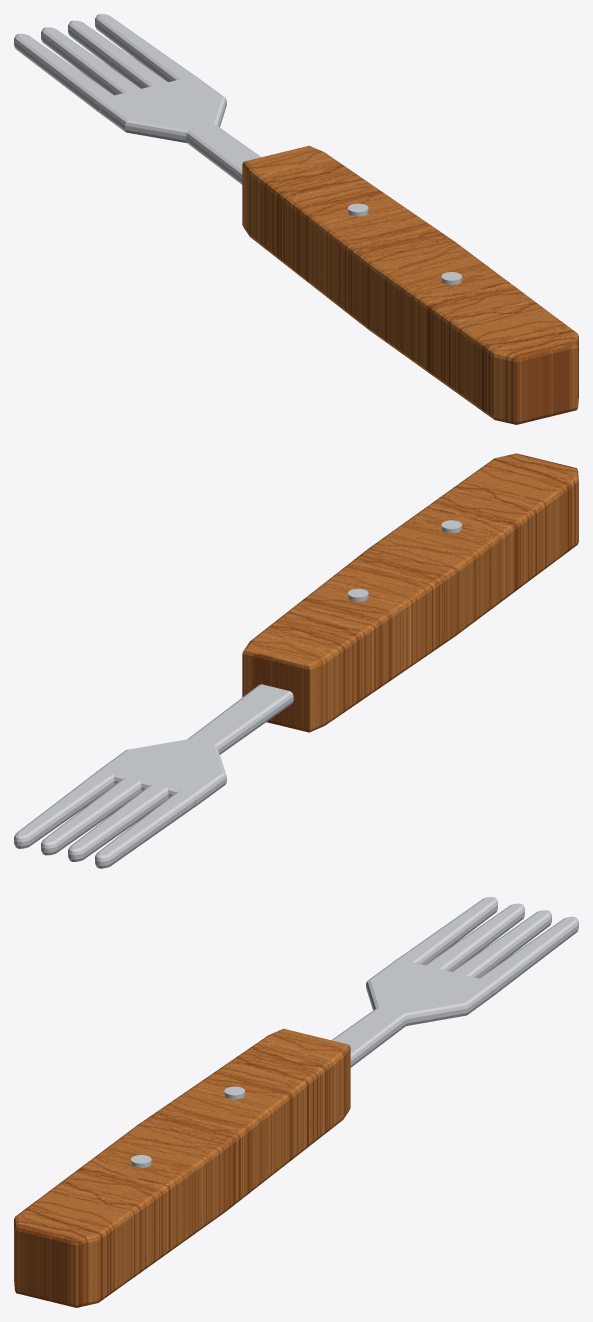
The model's file is CUB-26.glb.
3 renders of one model, top to bottom at view 1: azimuth 30°, elevation 25°; view 2: azimuth 150°, elevation 25°; view 3: azimuth 330°, elevation 25°, orthographic.
Size of the model in its own units: 0.0248 by 0.017 by 0.2066.
4 materials, 1 textured.
